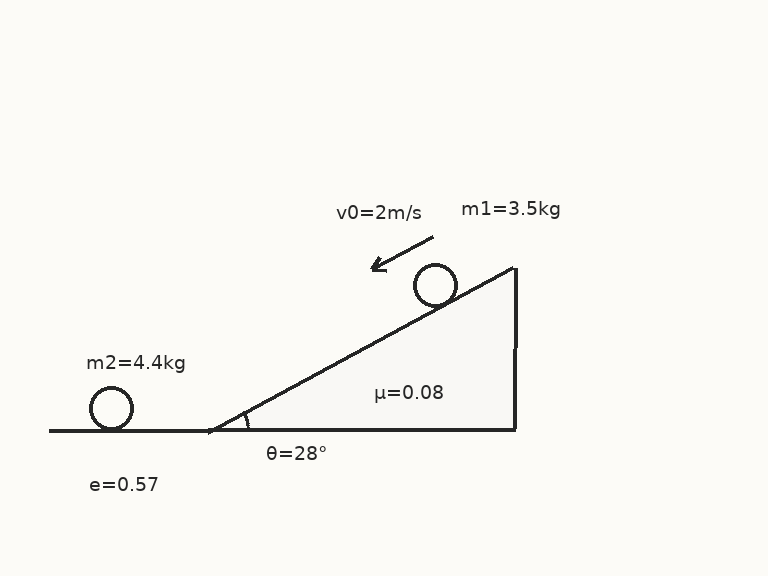ball: (411, 261, 459, 309), (87, 384, 135, 432)
ramp: (206, 265, 516, 432)
